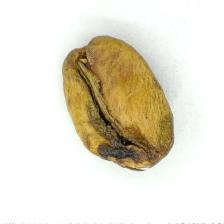NG: (81, 109, 175, 168)
